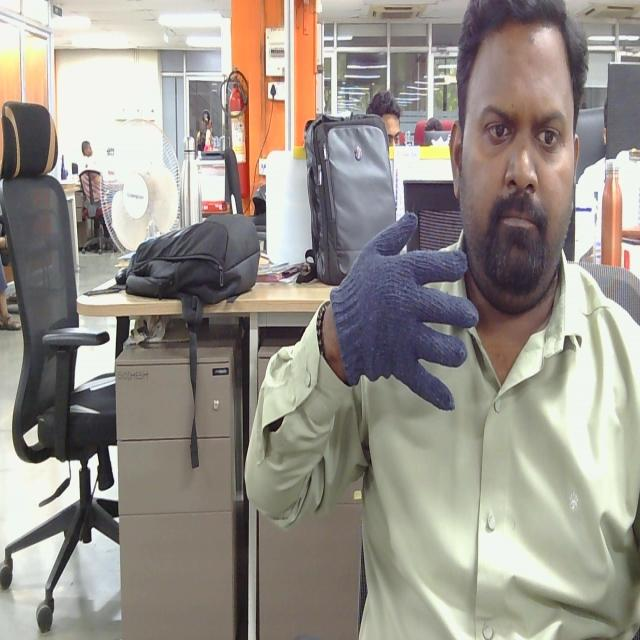Gloves-Detection: (329, 211, 478, 414)
